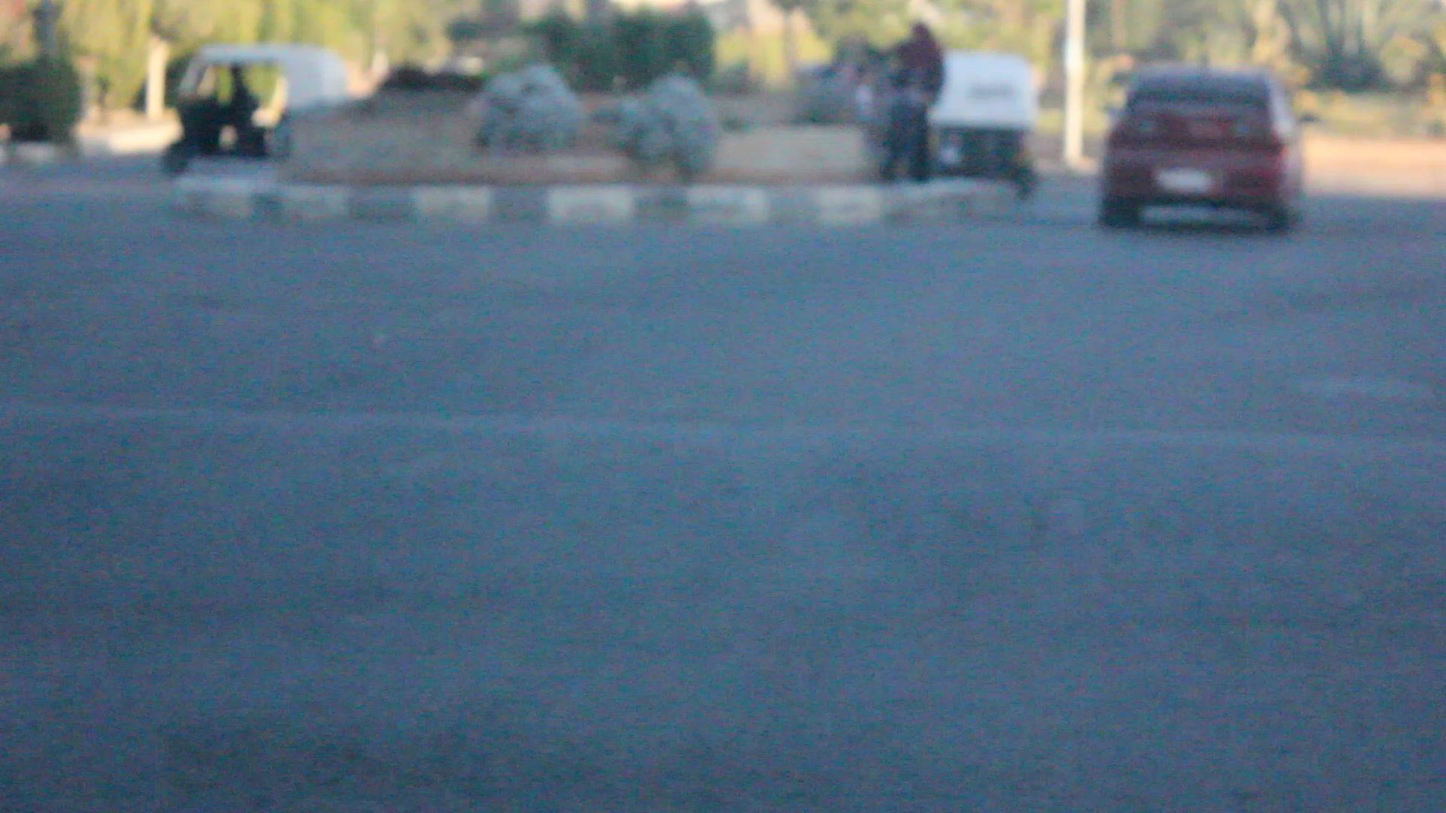Bump: (0, 359, 1446, 678)
